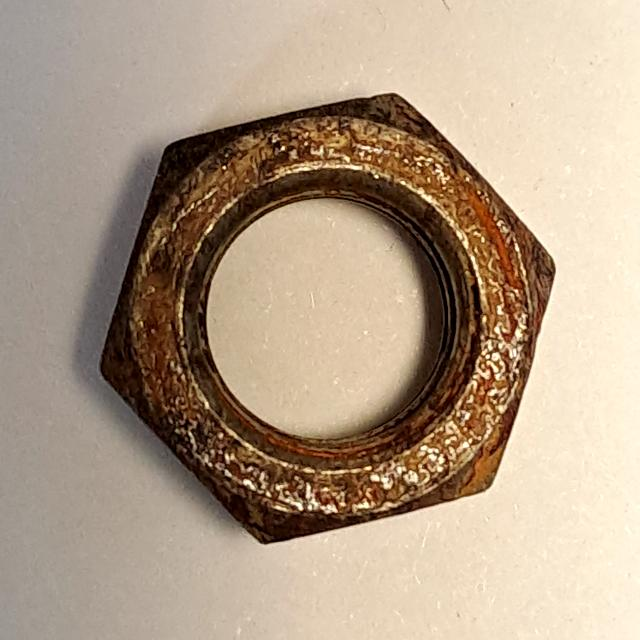Rust: (83, 79, 575, 558)
